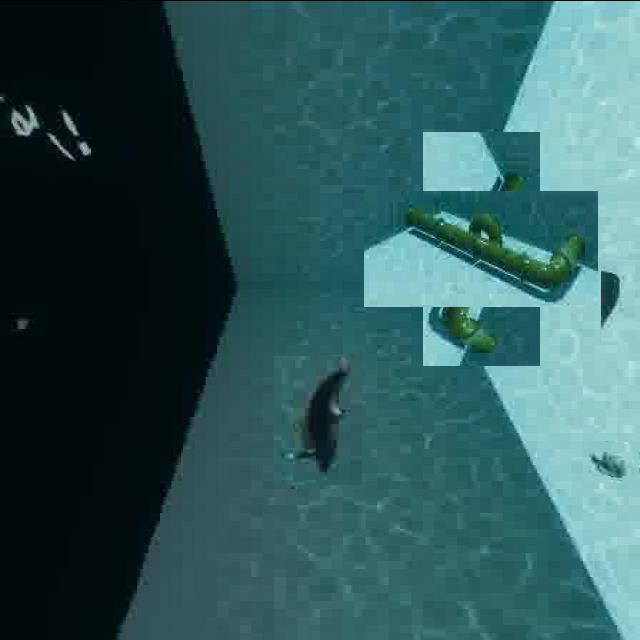Pipe: (394, 160, 569, 336)
Shell: (589, 441, 639, 482)
Whale: (274, 355, 362, 484), (600, 259, 640, 341)
